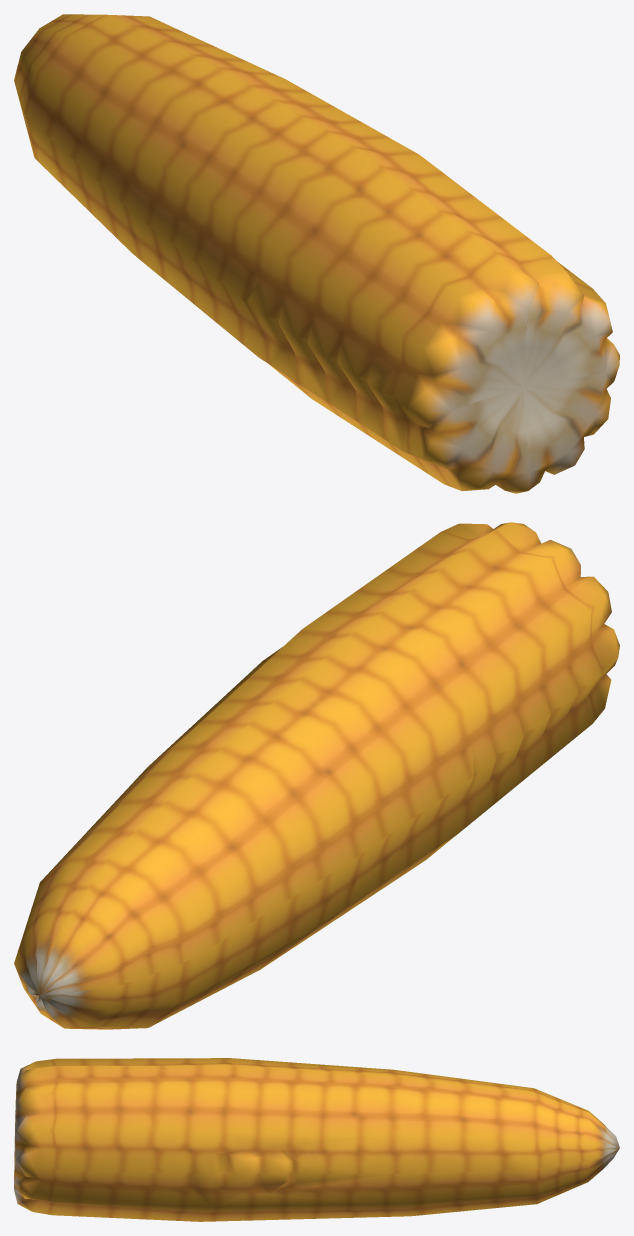
File: cornCobDetailed.fbx
3 views of the same model, one above another, from view 1: azimuth 30°, elevation 25°; view 2: azimuth 150°, elevation 25°; view 3: azimuth 270°, elevation 25° (orthographic). The views are drawn at different scales.
Visible parts, largest first — view 1: cornCobDetailed; view 2: cornCobDetailed; view 3: cornCobDetailed.
Part boxes in pixels (x1=…): cornCobDetailed: x1=14, y1=14, x2=619, y2=493; cornCobDetailed: x1=14, y1=522, x2=619, y2=1029; cornCobDetailed: x1=14, y1=1058, x2=619, y2=1221.
Bounding box in the file's own units: 7.08 × 7.05 × 25.97.
